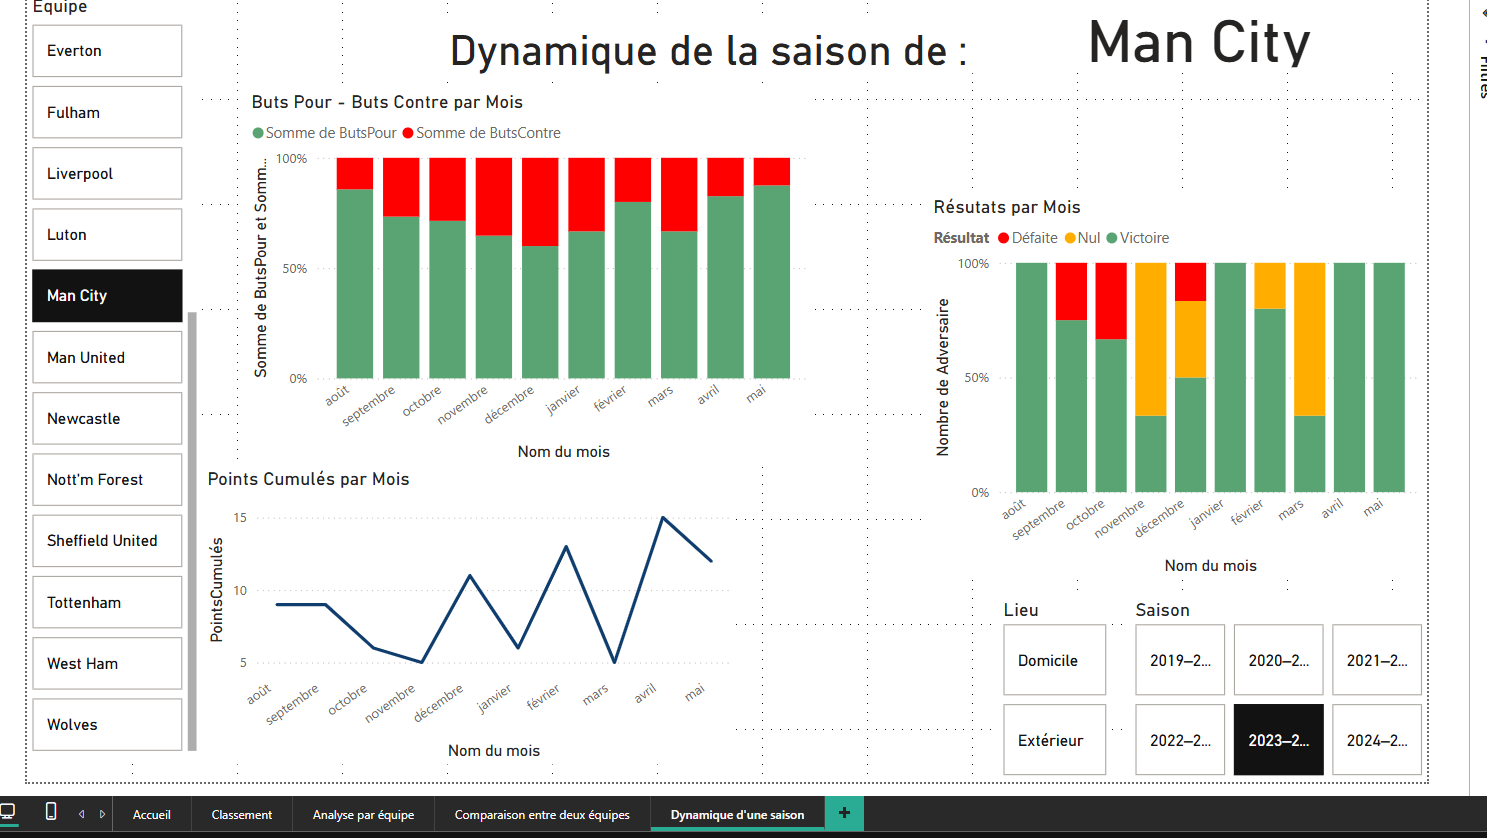

The dashboard page shown, as its layout file describes it:
{"tool":"powerbi","page":{"name":"Dynamique d'une saison","canvas":[1280,720],"ordinal":4},"visuals":[{"type":"advancedSlicerVisual","fields":{"Values":["PL23 (2).Saison"]},"box":[1008,552,272,168],"z":0},{"type":"hundredPercentStackedColumnChart","title":"Buts Pour - Buts Contre par Mois","fields":{"Y":["Sum(PL23 (2).ButsPour)","Sum(PL23 (2).ButsContre)"],"Category":["TableMoisOrdre.Nom du mois"]},"box":[200,88,520,344],"z":1000},{"type":"advancedSlicerVisual","fields":{"Values":["PL23 (2).Équipe"]},"box":[0,0,160,704],"z":2000},{"type":"lineChart","title":"Points Cumulés par Mois","fields":{"Category":["TableMoisOrdre.Nom du mois"],"Y":["PL23 (2).PointsCumulés"]},"box":[160,432,488,272],"z":3000},{"type":"hundredPercentStackedColumnChart","title":"Résutats par Mois","fields":{"Category":["TableMoisOrdre.Nom du mois"],"Series":["PL23 (2).Résultat"],"Y":["CountNonNull(PL23 (2).Adversaire)"]},"box":[824,184,456,352],"z":4000},{"type":"card","fields":{"Values":["PL23 (2).ÉquipeSélectionnée"]},"box":[864,0,416,72],"z":4001},{"type":"advancedSlicerVisual","fields":{"Values":["PL23 (2).Lieu"]},"box":[888,552,104,168],"z":4002},{"type":"textbox","box":[328,24,536,56],"z":4003}]}

Visuals, with their boxes on the page's 1280x720 design canvas (x1, y1, x2, y2). These are canvas units, not pixel positions in the 1487x838 screenshot, which may show the page scaled, cropped or inside an application window:
advancedSlicerVisual - PL23 (2).Saison: rect(1008, 552, 1280, 720)
"Buts Pour - Buts Contre par Mois" hundredPercentStackedColumnChart: rect(200, 88, 720, 432)
advancedSlicerVisual - PL23 (2).Équipe: rect(0, 0, 160, 704)
"Points Cumulés par Mois" lineChart: rect(160, 432, 648, 704)
"Résutats par Mois" hundredPercentStackedColumnChart: rect(824, 184, 1280, 536)
card - PL23 (2).ÉquipeSélectionnée: rect(864, 0, 1280, 72)
advancedSlicerVisual - PL23 (2).Lieu: rect(888, 552, 992, 720)
textbox: rect(328, 24, 864, 80)
